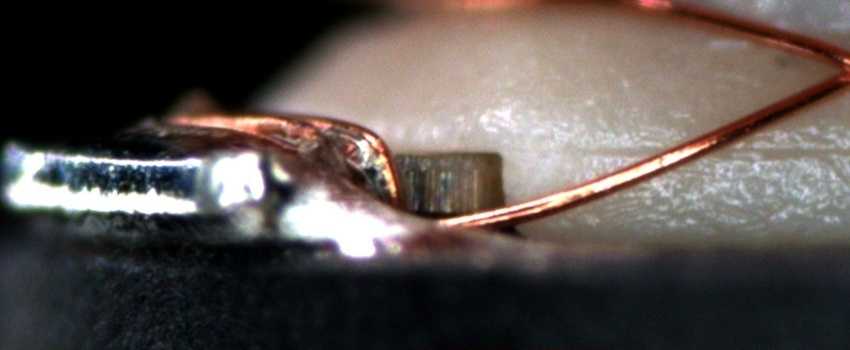CL: (823, 46, 850, 93)
DL: (585, 121, 850, 184)
TE: (159, 107, 409, 212)
